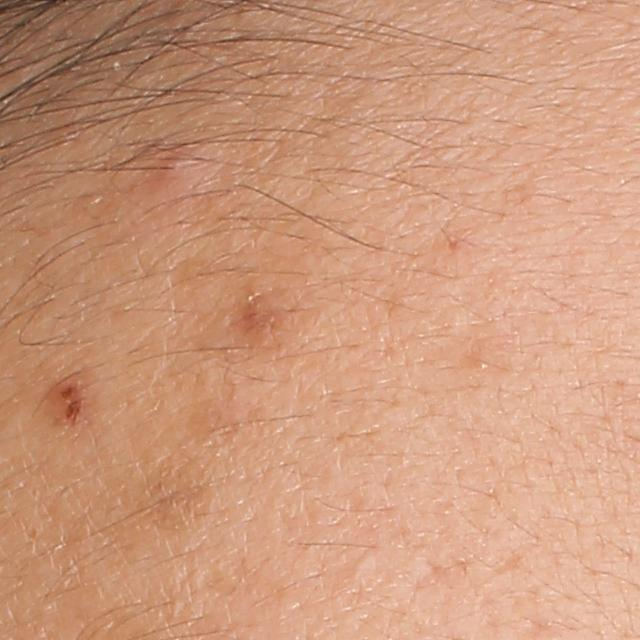comedo: (344, 544, 376, 583)
papule: (142, 145, 215, 201)
